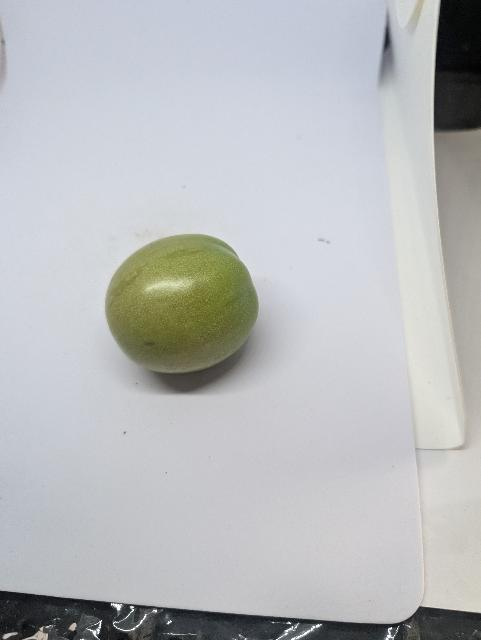green: (103, 232, 261, 376)
